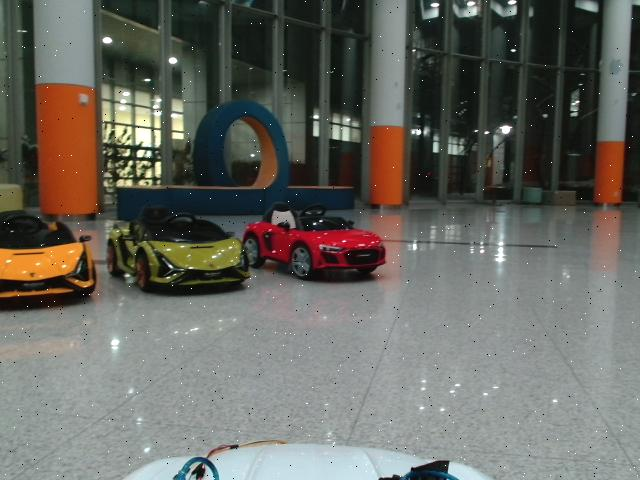car: (106, 208, 250, 291), (243, 199, 387, 279), (1, 211, 96, 306)
